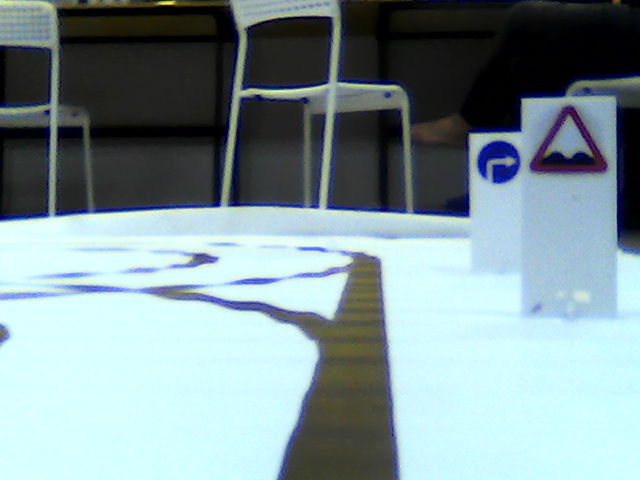Nerov: (529, 103, 609, 180)
Right: (478, 140, 520, 182)
